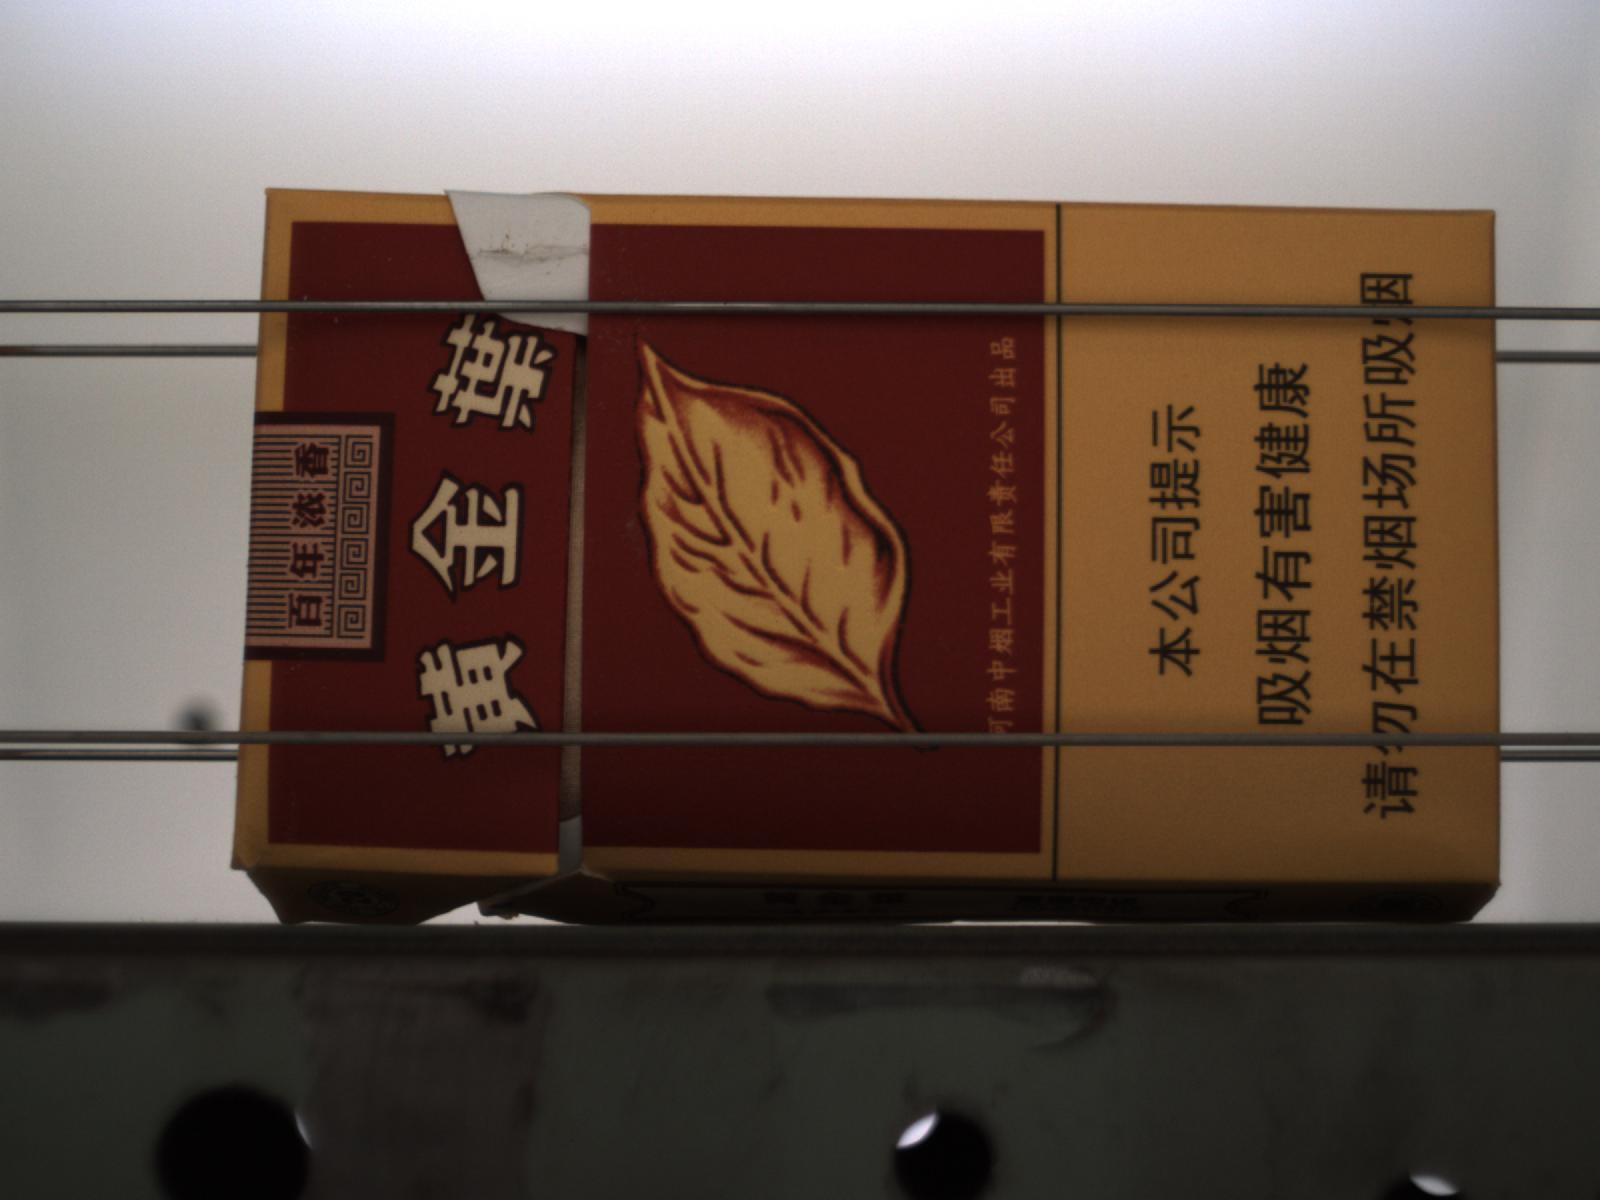boxDamage_front: (486, 863, 1490, 923)
dirtyPrint: (386, 255, 396, 263)
frame: (438, 187, 595, 310)
lower_upwarp: (236, 867, 551, 926)
